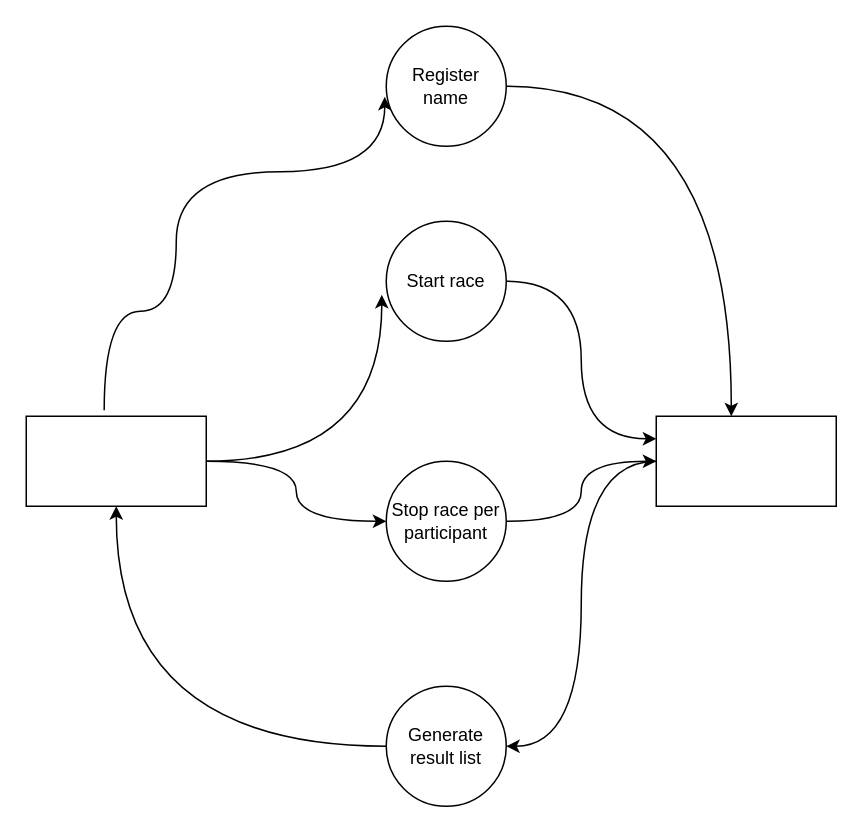
Some shapes in this 863 by 833 pixel diagram are drawn without their labels. Each missing label, with the centre of its shape:
db: point 745,460
User: point 115,460
